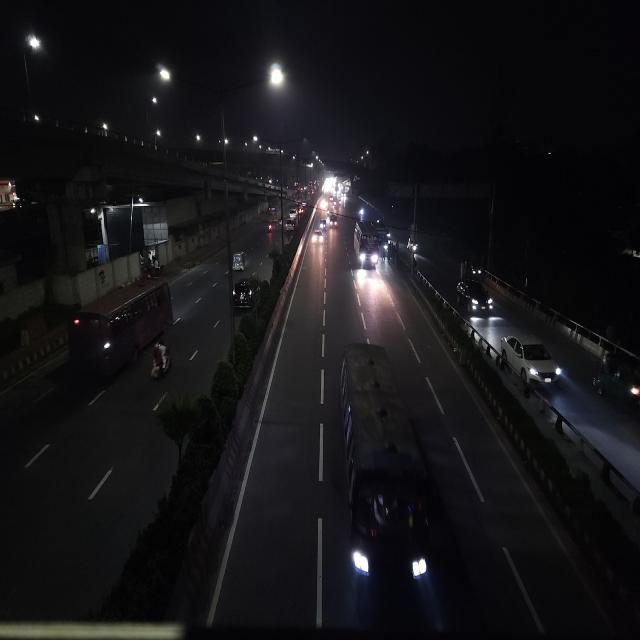bus: (332, 337, 444, 603), (70, 270, 178, 395), (354, 218, 381, 272), (268, 206, 280, 222)
car: (500, 329, 566, 404), (453, 275, 496, 318), (232, 274, 266, 315), (311, 228, 324, 246), (285, 218, 298, 233)
cng: (462, 256, 486, 280), (228, 248, 248, 272), (407, 235, 419, 254), (320, 217, 327, 231)
motorcycle: (151, 339, 171, 382), (266, 222, 273, 232)
pedestrian: (388, 242, 398, 262), (381, 243, 387, 264)
pickup_van: (329, 214, 339, 229)
